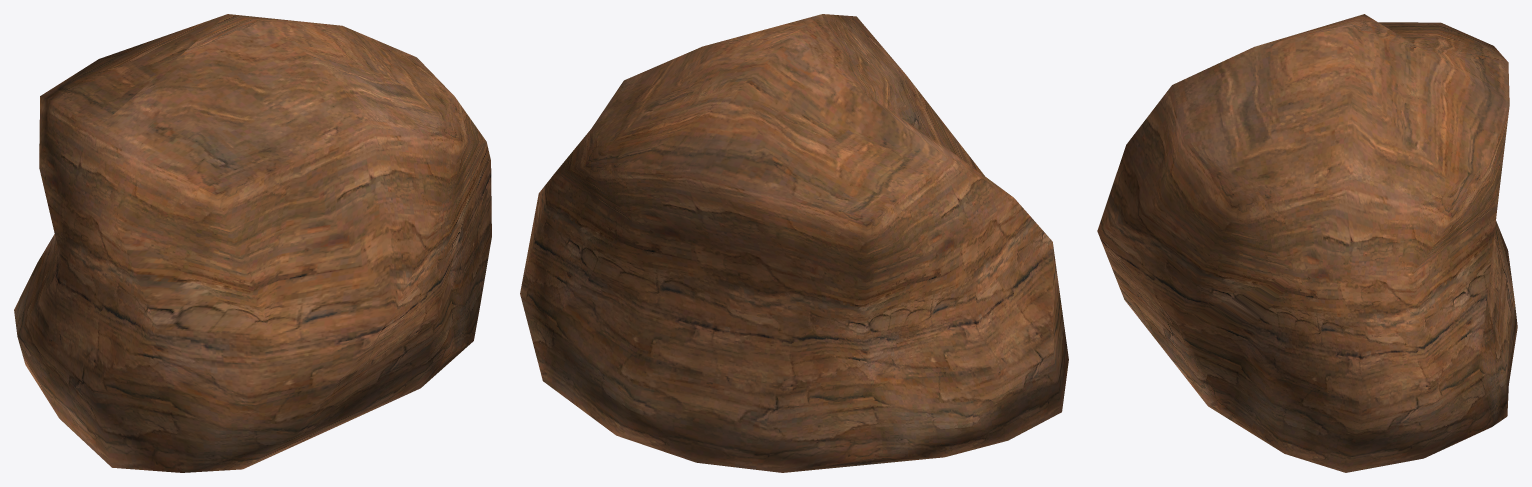
The model's file is rock_tatt_jundland_boulder_a4_l2.fbx.
3 views of the same model, side by side, from view 1: azimuth 30°, elevation 25°; view 2: azimuth 150°, elevation 25°; view 3: azimuth 270°, elevation 25° (orthographic). The views are drawn at different scales.
Visible parts, largest first — view 1: mesh_node; view 2: mesh_node; view 3: mesh_node.
Part boxes in pixels (x1,y1,x2,y2): mesh_node: (14, 14, 491, 472); mesh_node: (520, 14, 1068, 472); mesh_node: (1097, 14, 1517, 472).
Bounding box in the file's own units: 2.67 × 2.11 × 2.16.
